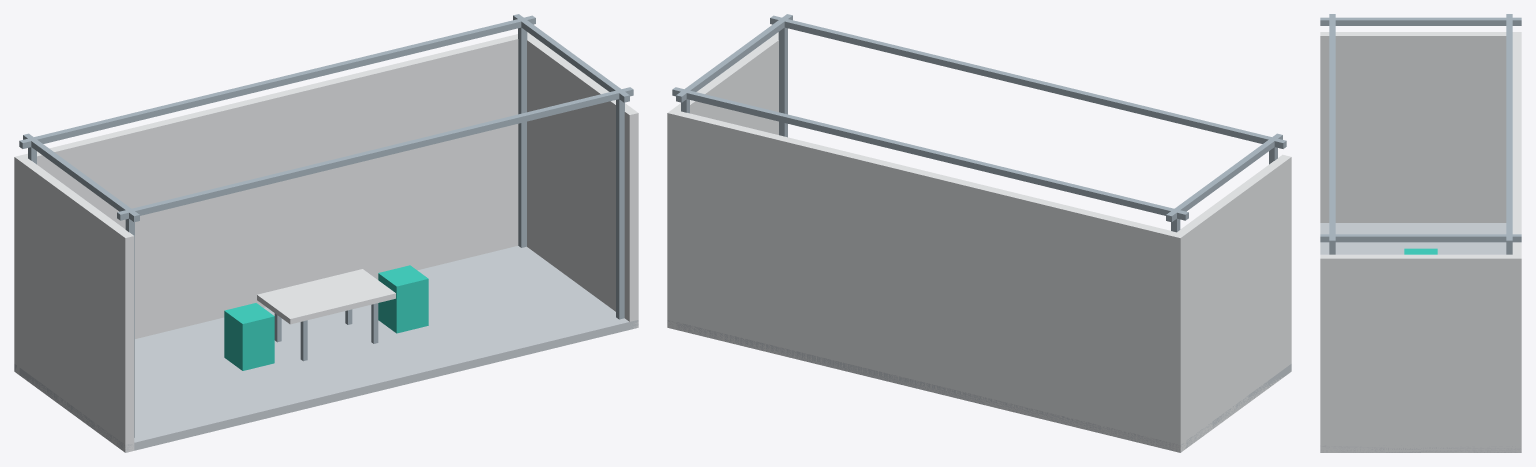
3 views of the same model, side by side, from view 1: azimuth 30°, elevation 25°; view 2: azimuth 150°, elevation 25°; view 3: azimuth 270°, elevation 25° (orthographic). The views are drawn at different scales.
Visible parts, largest first — view 1: Exhibition Booth Concept; view 2: Exhibition Booth Concept; view 3: Exhibition Booth Concept.
Boxes of the visible parts, bbox=[...] form: Exhibition Booth Concept: bbox=[14, 14, 638, 452]; Exhibition Booth Concept: bbox=[667, 14, 1291, 452]; Exhibition Booth Concept: bbox=[1320, 14, 1521, 452].
Bounding box in the file's own units: 8 × 3.49 × 3.
